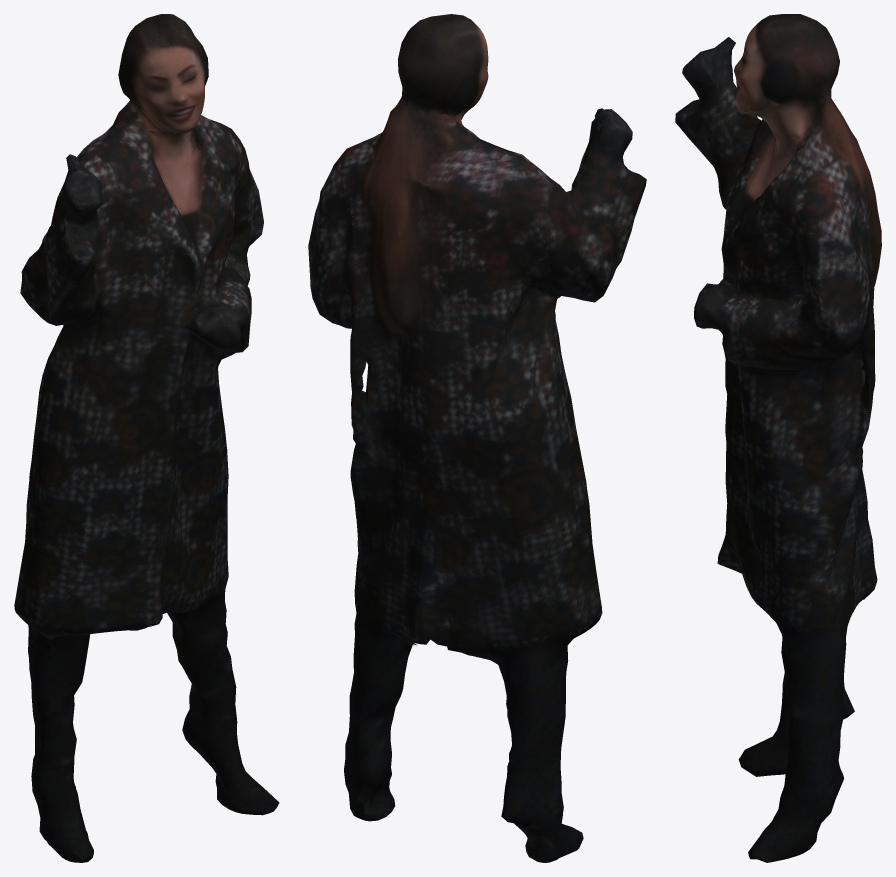
Rendered from evercoast.0131.gltf.
3 views of the same model, side by side, from view 1: azimuth 30°, elevation 25°; view 2: azimuth 150°, elevation 25°; view 3: azimuth 270°, elevation 25° (orthographic). The views are drawn at different scales.
Parts seen in each view (by area): view 1: HIGH; view 2: HIGH; view 3: HIGH.
Boxes of the visible parts, x1,y1,x2,y2 form: HIGH: (14,14,279,862); HIGH: (308,14,646,862); HIGH: (675,14,881,862).
Size of the model in its own units: 0.6337 by 1.83 by 0.4247.
Materials: 1 (1 with a texture image).
